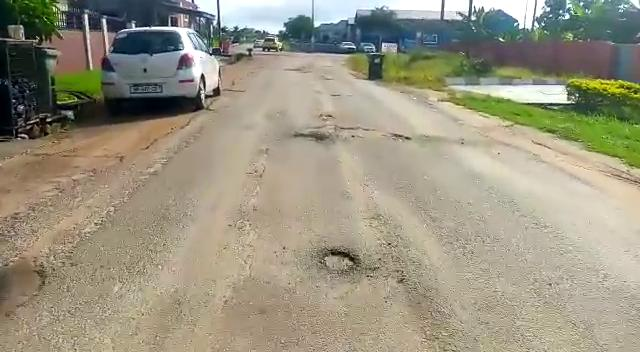pothole: (333, 127, 412, 142), (320, 248, 361, 276), (289, 131, 331, 143)
